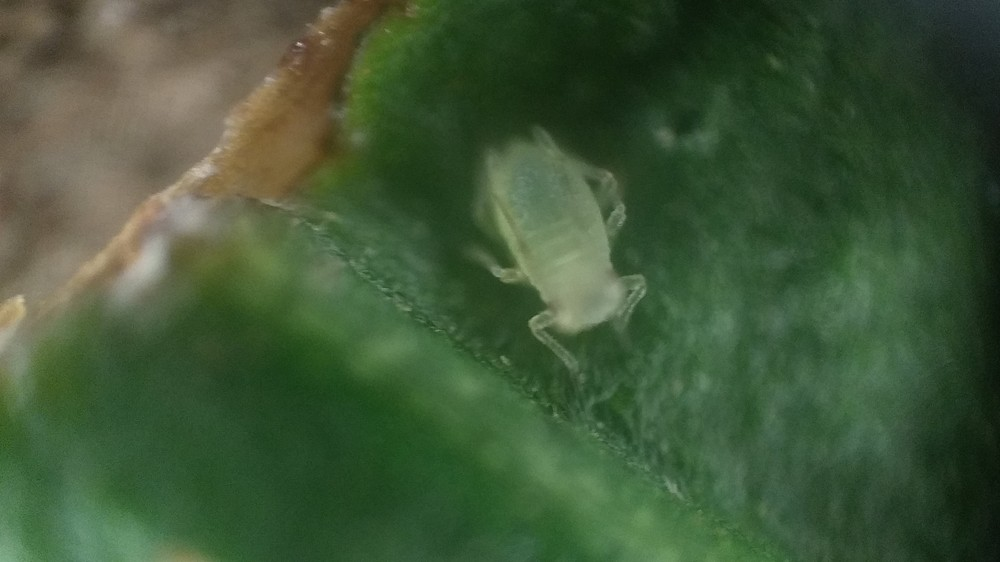Pulgon: (446, 111, 672, 395)
